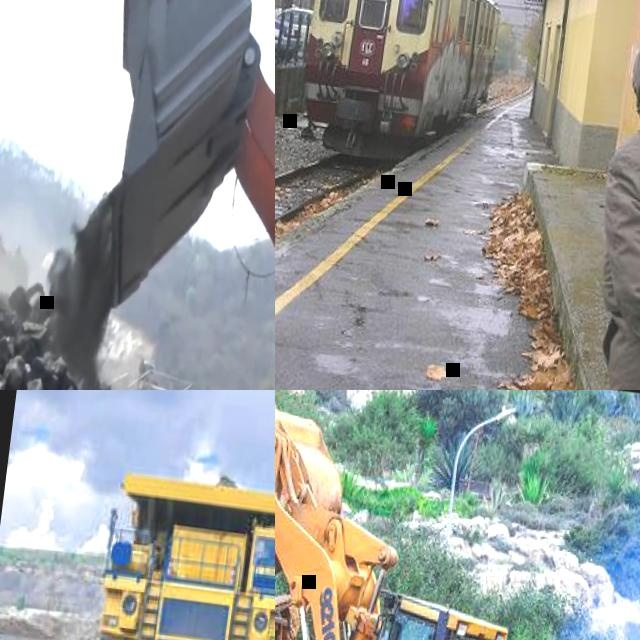machinery: (275, 390, 640, 640), (61, 0, 275, 390), (88, 458, 275, 640)
